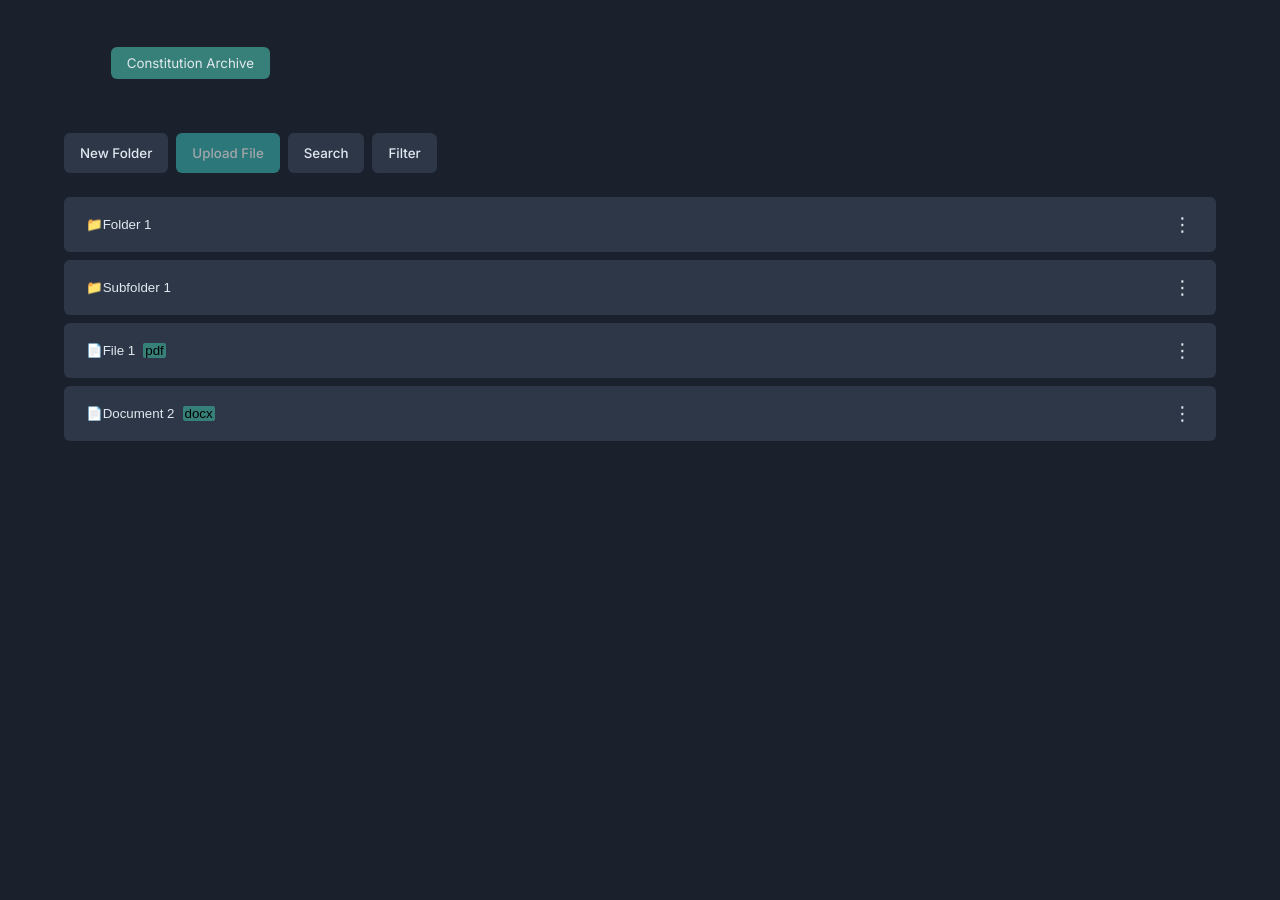
Test: FolderBrowser Component › handleDownload handles download error
The width and height of the screenshot is (1280, 900).
Click the button with aria-label "Open folder Folder 1" at (127, 225), box top-left (80, 216), bottom-right (1153, 233)
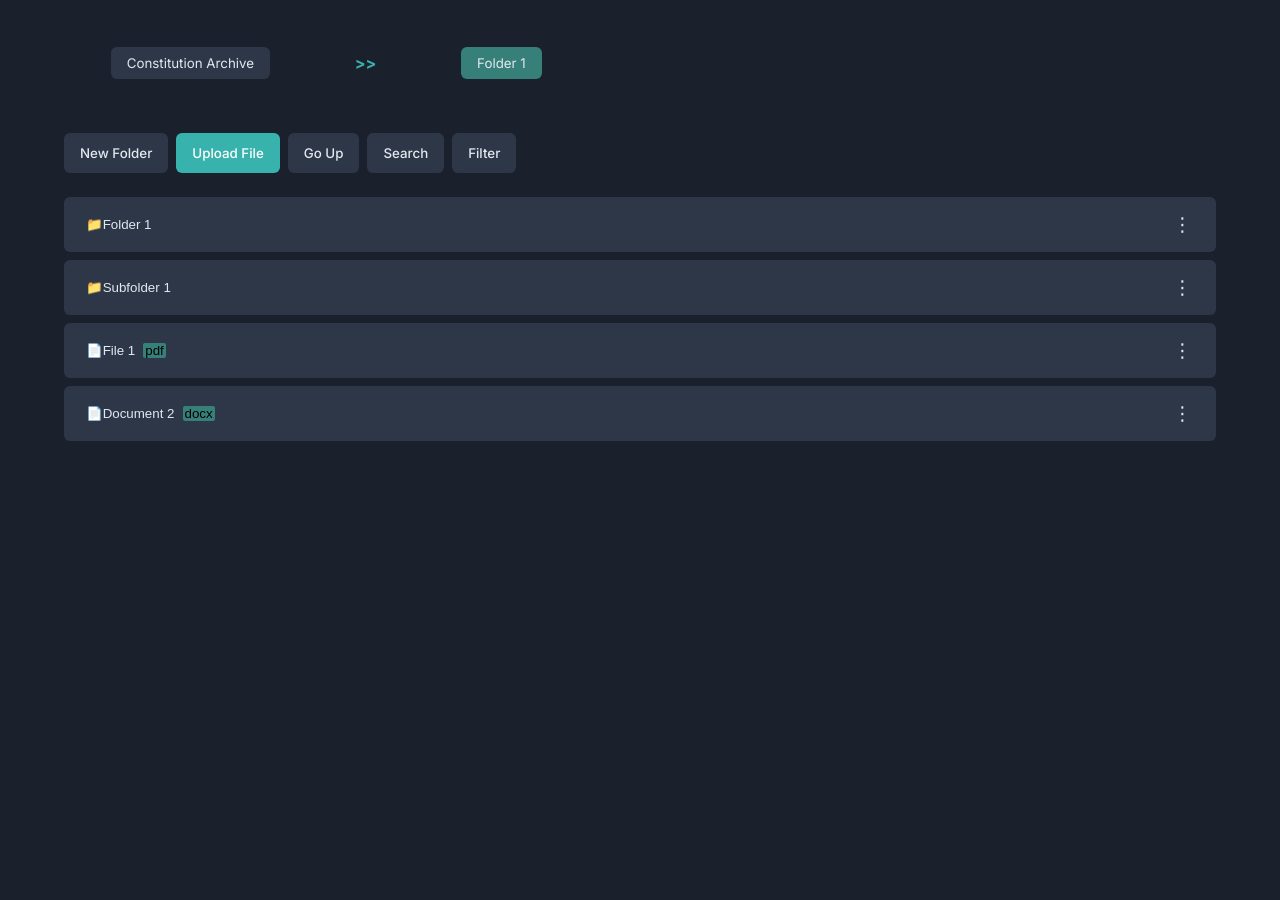
Expected: the button with aria-label "View file File 1" is shown, top-left (80, 342), bottom-right (1153, 359)
Click the button named "More actions" at (1182, 351), box top-left (1165, 339), bottom-right (1200, 362)
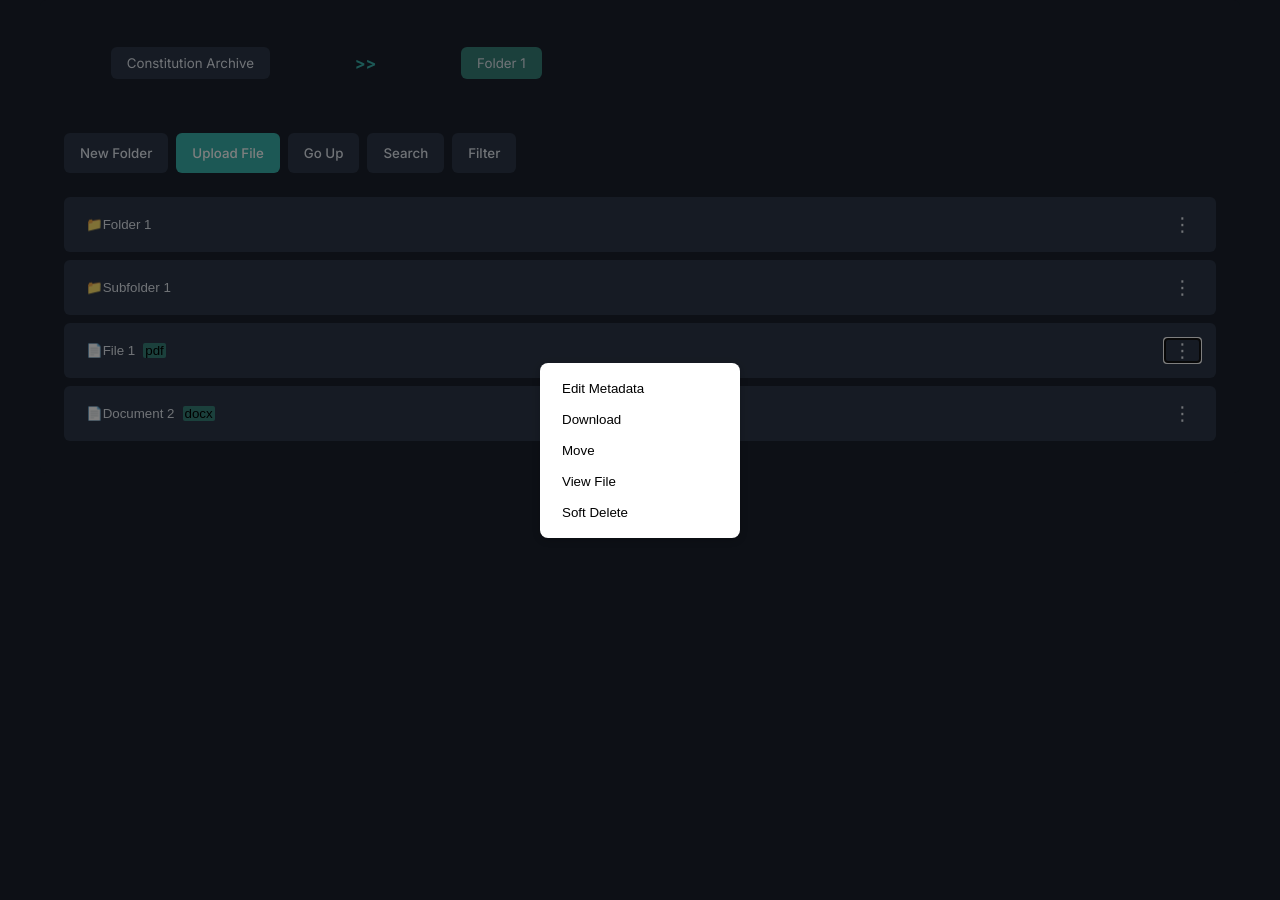
Click the button "Download" at (640, 419), box top-left (550, 404), bottom-right (730, 434)
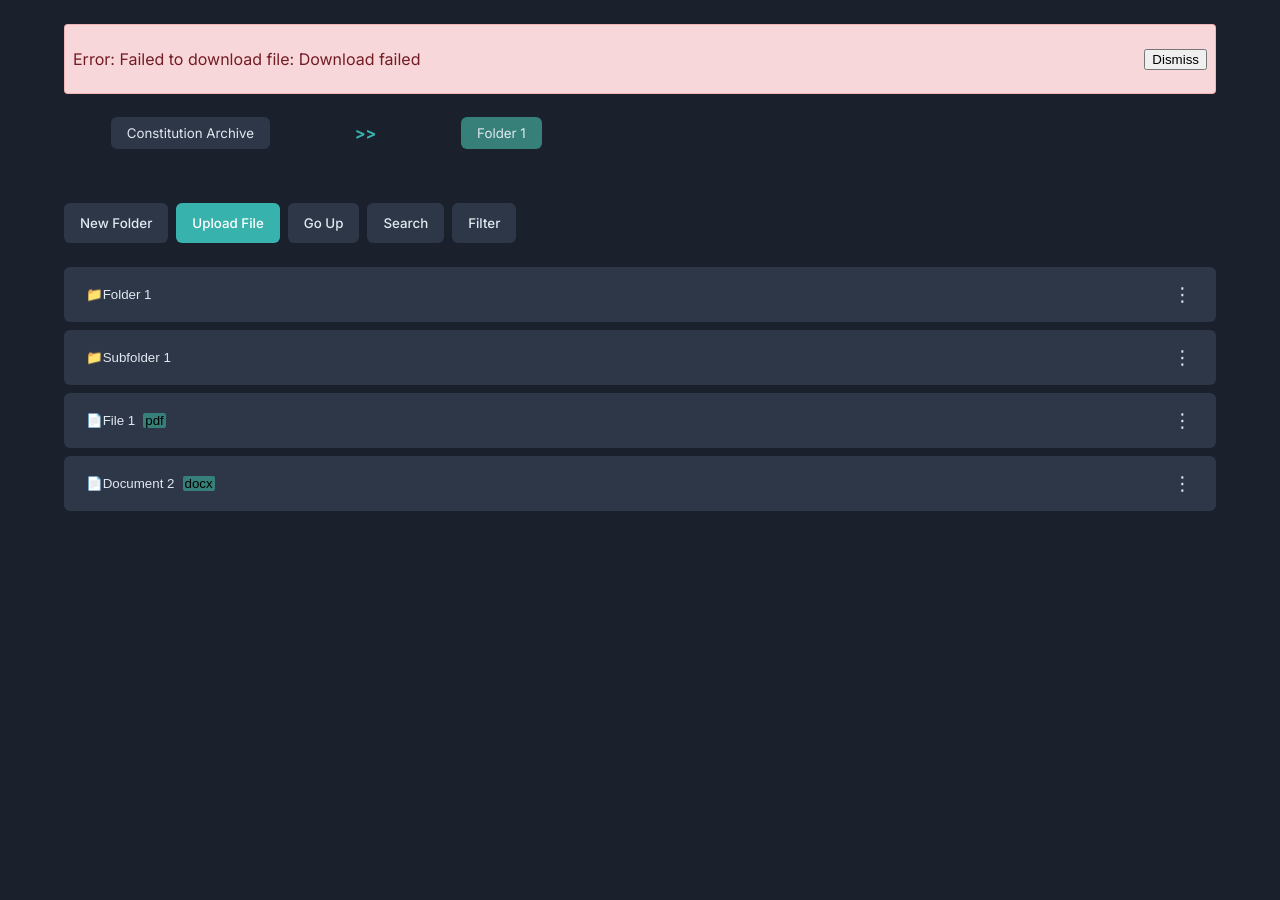
Now the text "Error: Failed to download file: Download failed" is shown, box top-left (73, 49), bottom-right (420, 69)
